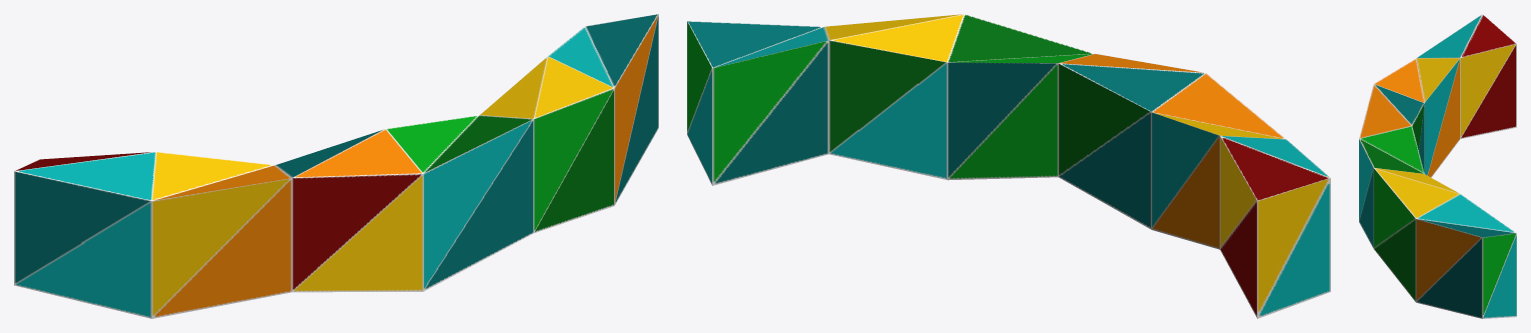
Rendered from concave.FBX.
The picture shows the model from 3 angles, left to right: view 1: azimuth 30°, elevation 25°; view 2: azimuth 150°, elevation 25°; view 3: azimuth 270°, elevation 25°; orthographic projection. The views are drawn at different scales.
Parts seen in each view (by area): view 1: Arc001; view 2: Arc001; view 3: Arc001.
Boxes of the visible parts, bbox=[...] form: Arc001: bbox=[14, 14, 658, 318]; Arc001: bbox=[687, 14, 1330, 318]; Arc001: bbox=[1359, 14, 1516, 318].
Size of the model in its own units: 9.95 by 2 by 2.96.
Materials: 1 (1 with a texture image).
